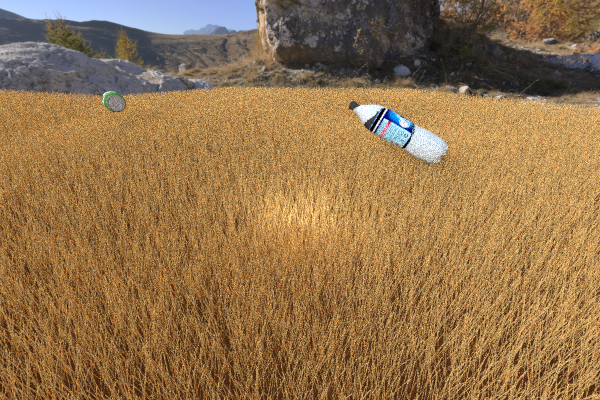Plastic Bottle: (347, 100, 446, 163), (243, 144, 326, 194), (247, 107, 290, 137)
